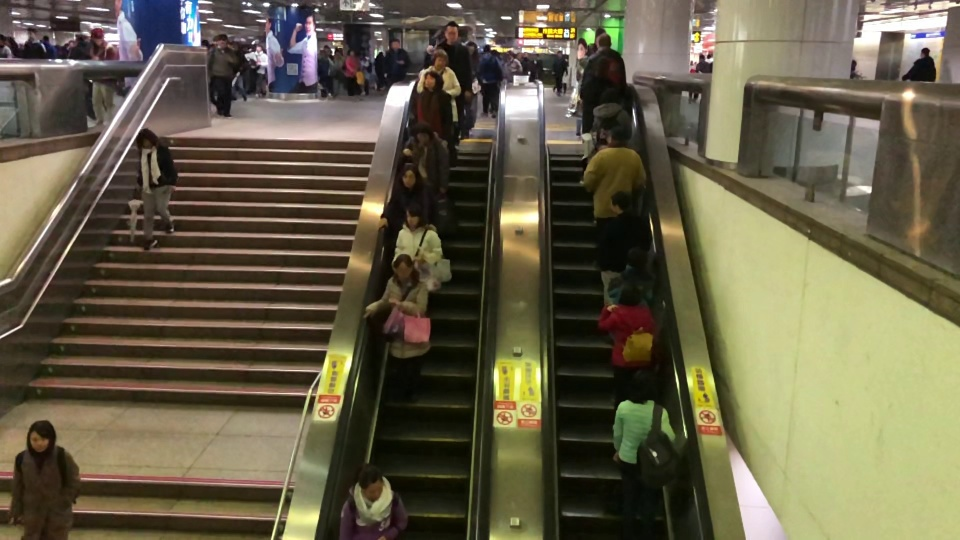person_head: (25, 419, 57, 453), (627, 368, 657, 401), (358, 465, 384, 499), (626, 246, 649, 272), (617, 284, 641, 307), (399, 162, 421, 187), (403, 201, 423, 228), (135, 127, 158, 149), (609, 191, 632, 213), (422, 70, 445, 91), (393, 254, 414, 277), (605, 125, 626, 145), (413, 121, 432, 143), (431, 48, 448, 69), (594, 55, 610, 75), (444, 20, 459, 41), (600, 88, 619, 103), (596, 32, 612, 47), (91, 28, 103, 45), (216, 35, 228, 48), (586, 42, 597, 56), (919, 46, 931, 57), (26, 27, 36, 40), (390, 38, 400, 48), (466, 42, 475, 53), (483, 43, 491, 53), (0, 34, 6, 46), (255, 43, 263, 52), (850, 59, 856, 70), (43, 34, 50, 42), (348, 49, 355, 54), (556, 50, 561, 56), (699, 54, 704, 60)
person_vbox: (612, 368, 677, 534), (362, 254, 431, 403), (597, 283, 663, 435), (581, 124, 649, 269), (6, 419, 80, 540), (594, 191, 647, 307), (134, 127, 179, 251), (338, 464, 408, 540), (435, 20, 474, 150), (579, 55, 616, 186), (376, 162, 435, 233), (402, 121, 450, 196), (415, 48, 462, 124), (606, 246, 661, 308), (391, 201, 443, 265), (88, 28, 119, 127), (411, 70, 453, 139), (207, 35, 238, 118), (581, 33, 627, 87), (591, 87, 633, 145), (574, 42, 597, 139), (478, 43, 502, 118), (244, 43, 269, 98), (383, 39, 410, 87), (901, 47, 937, 82), (466, 41, 478, 136), (344, 48, 361, 101), (553, 50, 569, 96), (24, 27, 46, 58), (42, 34, 58, 58), (695, 54, 711, 73), (849, 60, 864, 80), (0, 33, 11, 57)
